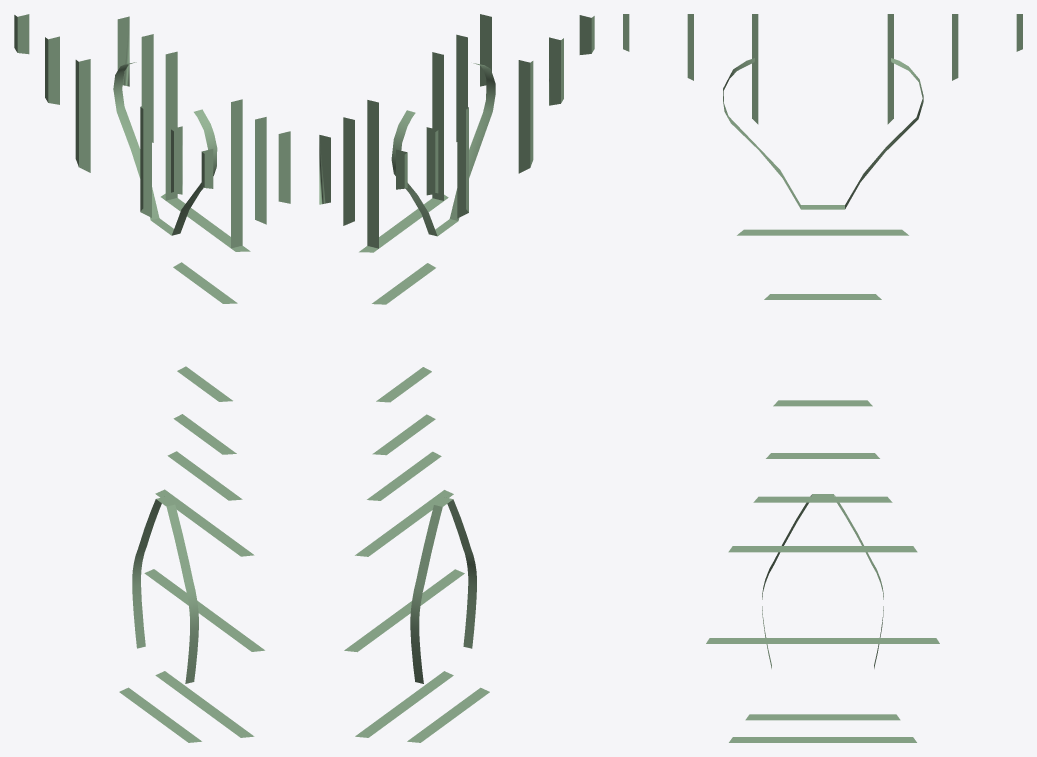
File: AFT_VOID_SPACE.glb
3 renders of one model, left to right at view 1: azimuth 30°, elevation 25°; view 2: azimuth 150°, elevation 25°; view 3: azimuth 270°, elevation 25°, orthographic. The views are drawn at different scales.
Parts seen in each view (by area): view 1: ST_TransxFR15S_009001-FB_200x12_NVA_1993, FP_TransxFR14S_001001-T_150x22.5_NVA_1993, ST_TransxFR15P_010001-FB_200x12_NVA_1993, FP_TransxFR14P_009001-T_150x22.5_NVA_1993, ST_TransBHDxBHD13PxWeb_048001-IA_200x90x9x14_NVA_1993, ST_TransxFR15S_034001-FB_200x12_NVA_1993, FP_TransxFR14P_005001-T_150x22.5_NVA_1993, ST_TransBHDxBHD13SxWeb_048001-IA_200x90x9x14_NVA_1993, ST_TransxFR15P_036001-FB_200x12_NVA_1993, ST_TransxFR15S_038001-FB_200x12_NVA_1993, FP_TransxFR14S_005001-T_150x22.5_NVA_1993, ST_TransBHDxBHD13PxWeb_049001-IA_200x90x9x14_NVA_1993 (+9 smaller); view 2: ST_TransxFR15P_010001-FB_200x12_NVA_1993, FP_TransxFR14P_009001-T_150x22.5_NVA_1993, ST_TransBHDxBHD13SxWeb_048001-IA_200x90x9x14_NVA_1993, ST_TransxFR15S_009001-FB_200x12_NVA_1993, FP_TransxFR14S_001001-T_150x22.5_NVA_1993, ST_TransxFR15P_036001-FB_200x12_NVA_1993, FP_TransxFR14S_005001-T_150x22.5_NVA_1993, ST_TransBHDxBHD13PxWeb_048001-IA_200x90x9x14_NVA_1993, ST_TransxFR15S_034001-FB_200x12_NVA_1993, FP_TransxFR14P_005001-T_150x22.5_NVA_1993, ST_TransxFR15P_034001-FB_200x12_NVA_1993, ST_TransBHDxBHD13SxWeb_049001-IA_200x90x9x14_NVA_1993 (+9 smaller); view 3: ST_TransBHDxBHD13PxFLG_048001-IA_200x90x9x14_NVA_1993, ST_TransBHDxBHD13SxFLG_048001-IA_200x90x9x14_NVA_1993, ST_TransxFR15P_006001-FB_200x12_NVA_1993, ST_TransxFR15S_030001-FB_200x12_NVA_1993, ST_TransxFR15P_005001-FB_200x12_NVA_1993, ST_TransxFR15S_028001-FB_200x12_NVA_1993.
Boxes of the visible parts, x1,y1,x2,y2 form: ST_TransxFR15S_009001-FB_200x12_NVA_1993: (231,99,242,248); FP_TransxFR14S_001001-T_150x22.5_NVA_1993: (166,504,198,683); ST_TransxFR15P_010001-FB_200x12_NVA_1993: (165,51,177,200); FP_TransxFR14P_009001-T_150x22.5_NVA_1993: (132,499,161,648); ST_TransBHDxBHD13PxWeb_048001-IA_200x90x9x14_NVA_1993: (79,59,90,172); ST_TransxFR15S_034001-FB_200x12_NVA_1993: (255,117,266,224); FP_TransxFR14P_005001-T_150x22.5_NVA_1993: (113,62,159,220); ST_TransBHDxBHD13SxWeb_048001-IA_200x90x9x14_NVA_1993: (140,104,151,217); ST_TransxFR15P_036001-FB_200x12_NVA_1993: (141,34,153,142); ST_TransxFR15S_038001-FB_200x12_NVA_1993: (278,131,290,203); FP_TransxFR14S_005001-T_150x22.5_NVA_1993: (172,109,217,235); ST_TransBHDxBHD13PxWeb_049001-IA_200x90x9x14_NVA_1993: (48,36,59,104); ST_TransxFR15P_010001-FB_200x12_NVA_1993: (367,100,378,248); FP_TransxFR14P_009001-T_150x22.5_NVA_1993: (410,505,442,683); ST_TransBHDxBHD13SxWeb_048001-IA_200x90x9x14_NVA_1993: (518,60,530,173); ST_TransxFR15S_009001-FB_200x12_NVA_1993: (432,52,443,200); FP_TransxFR14S_001001-T_150x22.5_NVA_1993: (447,499,476,648); ST_TransxFR15P_036001-FB_200x12_NVA_1993: (343,117,354,225); FP_TransxFR14S_005001-T_150x22.5_NVA_1993: (449,63,495,220); ST_TransBHDxBHD13PxWeb_048001-IA_200x90x9x14_NVA_1993: (457,104,468,218); ST_TransxFR15S_034001-FB_200x12_NVA_1993: (456,34,467,141); FP_TransxFR14P_005001-T_150x22.5_NVA_1993: (391,110,437,236); ST_TransxFR15P_034001-FB_200x12_NVA_1993: (319,135,330,204); ST_TransBHDxBHD13SxWeb_049001-IA_200x90x9x14_NVA_1993: (549,37,560,105); ST_TransBHDxBHD13PxFLG_048001-IA_200x90x9x14_NVA_1993: (887,14,893,124); ST_TransBHDxBHD13SxFLG_048001-IA_200x90x9x14_NVA_1993: (752,14,758,124); ST_TransxFR15P_006001-FB_200x12_NVA_1993: (823,638,939,643); ST_TransxFR15S_030001-FB_200x12_NVA_1993: (706,638,822,643); ST_TransxFR15P_005001-FB_200x12_NVA_1993: (823,546,917,552); ST_TransxFR15S_028001-FB_200x12_NVA_1993: (728,546,822,552).
Size of the model in its own units: 1.7 by 10.43 by 5.58.
